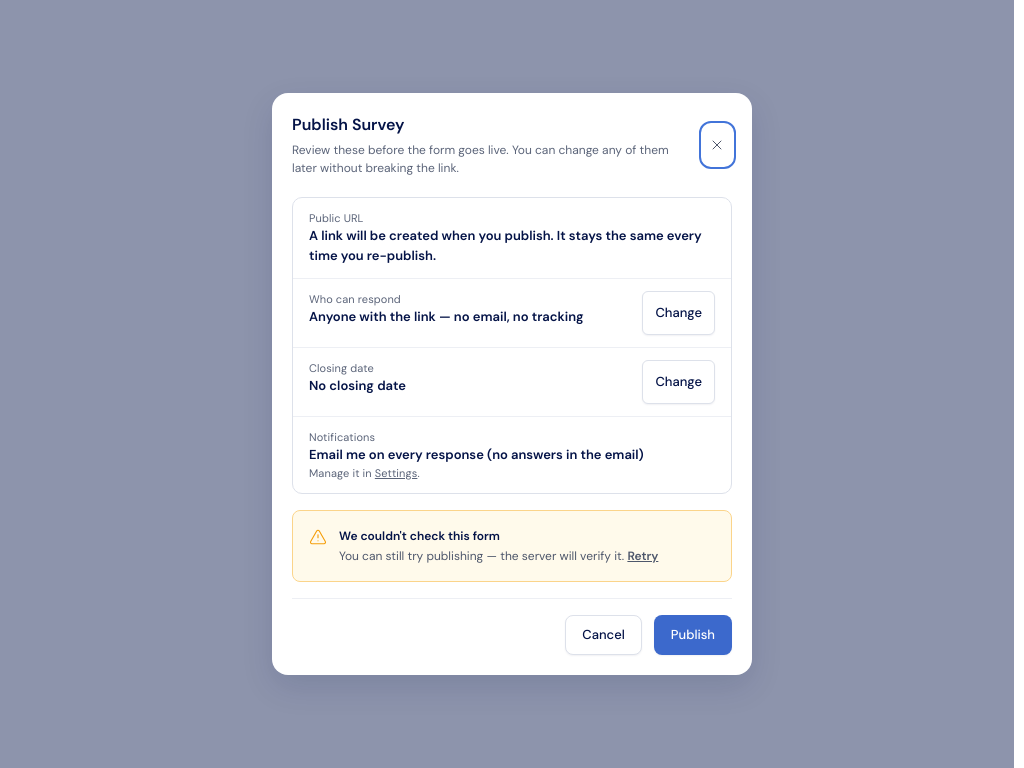
Test: PublishModal: pre-flight › if the readiness check fails the user may still publish, and can retry the check
expect the text "We couldn't check this form" is shown: met, box [339,528,500,544]
expect the button "Publish" is enabled: met, box [654,615,732,655]
Click the button "Retry": (643, 556) [627,547,658,565]
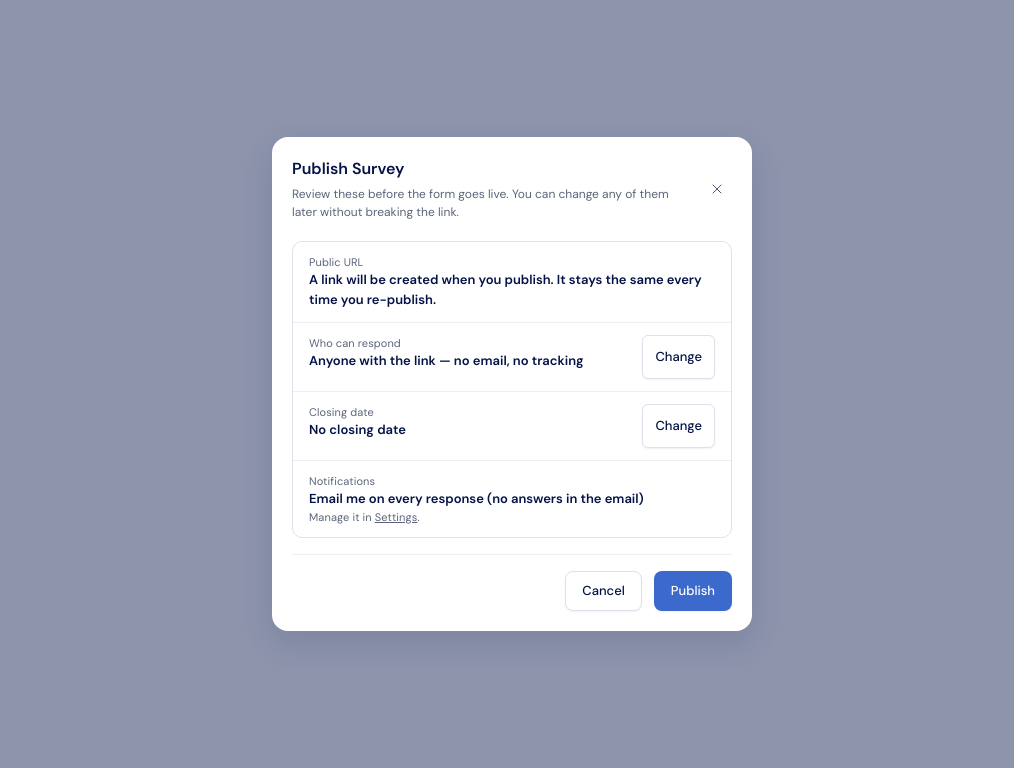
expect the text "We couldn't check this form" is gone: met
